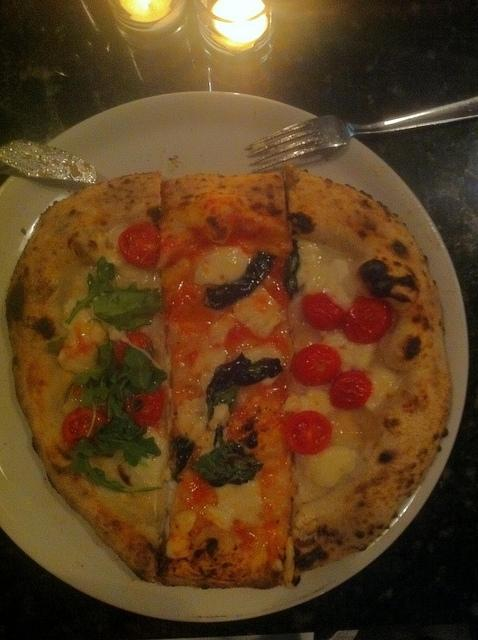tomato: (170, 470, 218, 520), (292, 343, 342, 387), (344, 297, 391, 343), (286, 410, 332, 455), (61, 408, 110, 450), (119, 224, 161, 268), (330, 370, 372, 411), (302, 293, 346, 331), (126, 386, 164, 426), (114, 331, 154, 364), (224, 319, 253, 350)
